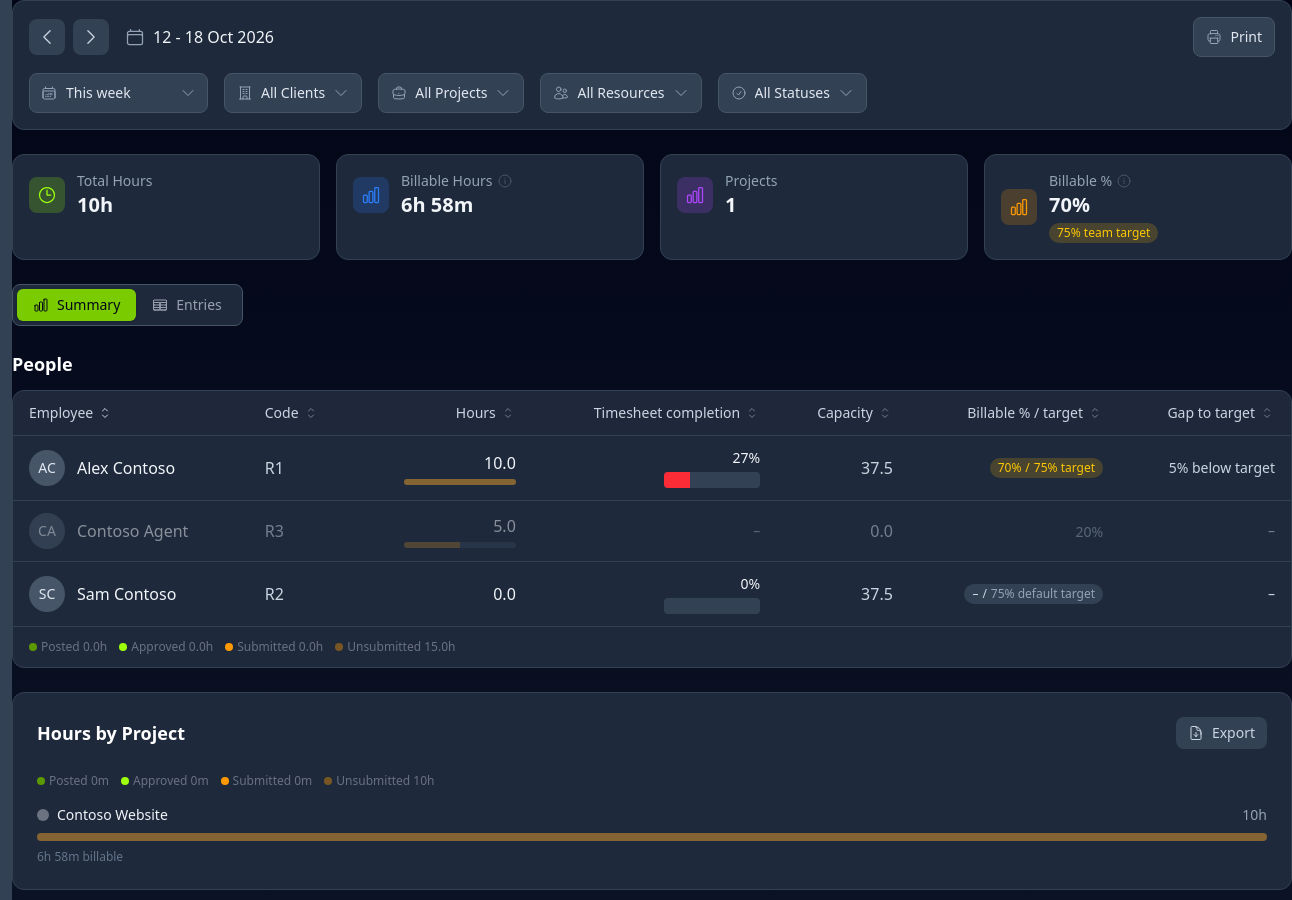
Test: ReportsPanel › shows one person when their name is clicked, with no target for someone not counted
Click the button "Contoso Agent": (133, 531) [77,519,188,543]
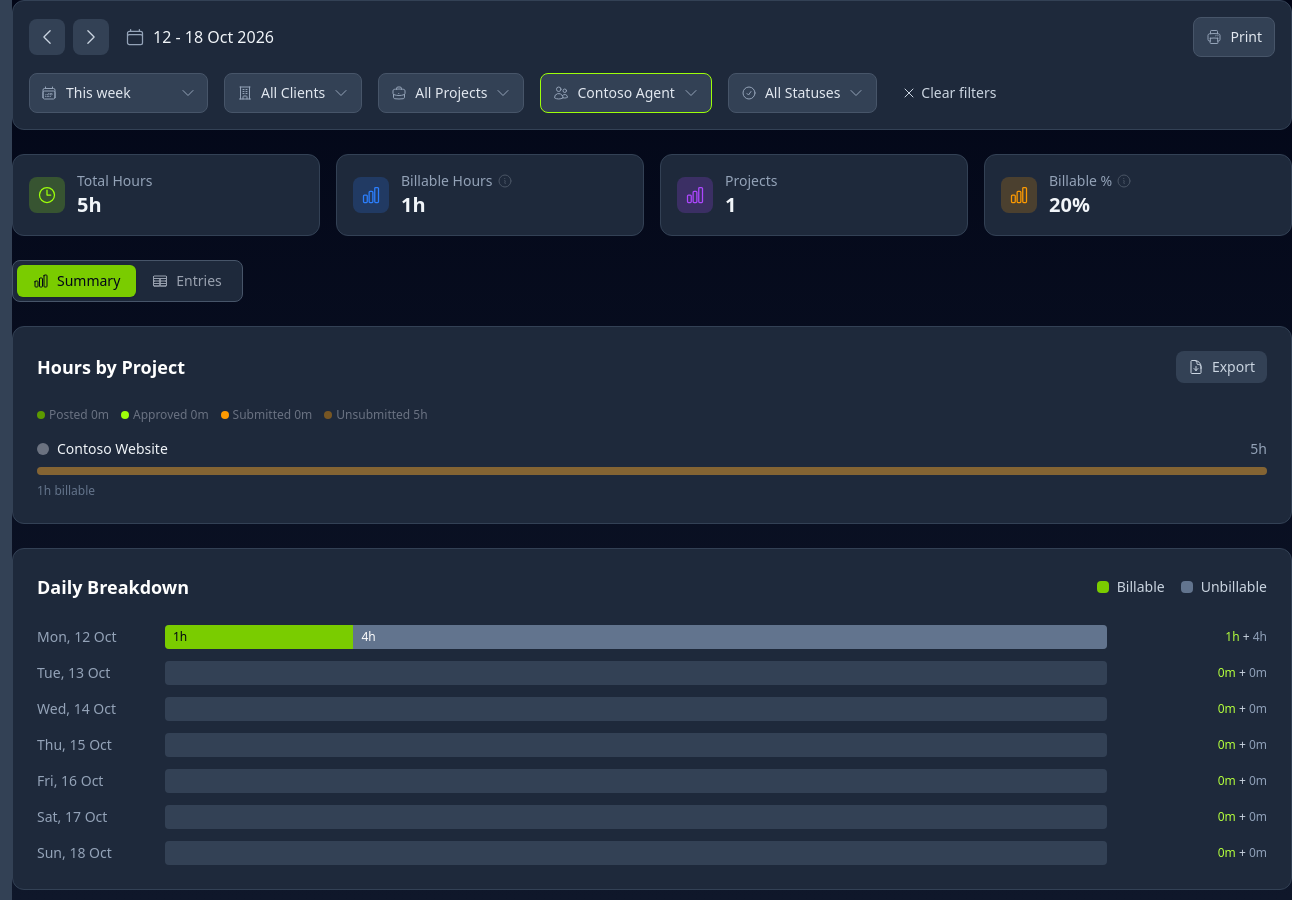
expect the table is gone: met
expect the button "Contoso Agent" is shown: met, box [540,73,712,113]
expect the text "20%" is shown: met, box [1049,191,1090,218]
